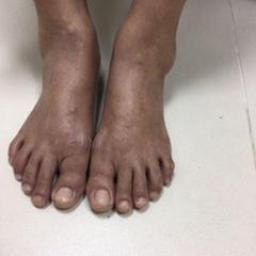Dorsal View -Both Feet-: (5, 7, 187, 222)
